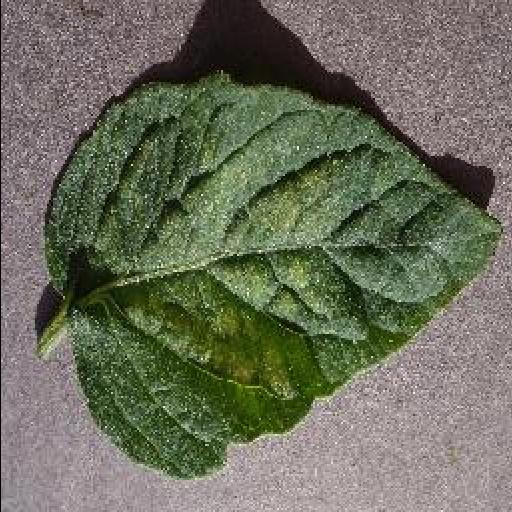disease_tomato: (46, 78, 506, 478)
